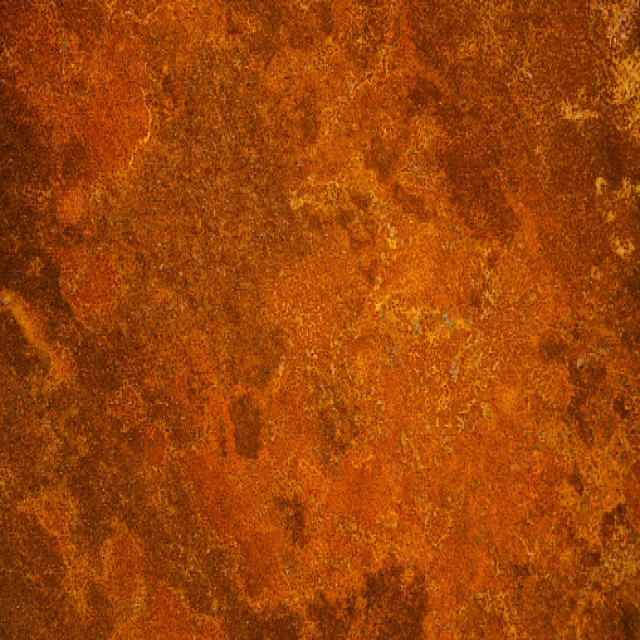corrosion: (0, 0, 640, 640), (310, 266, 542, 543)
